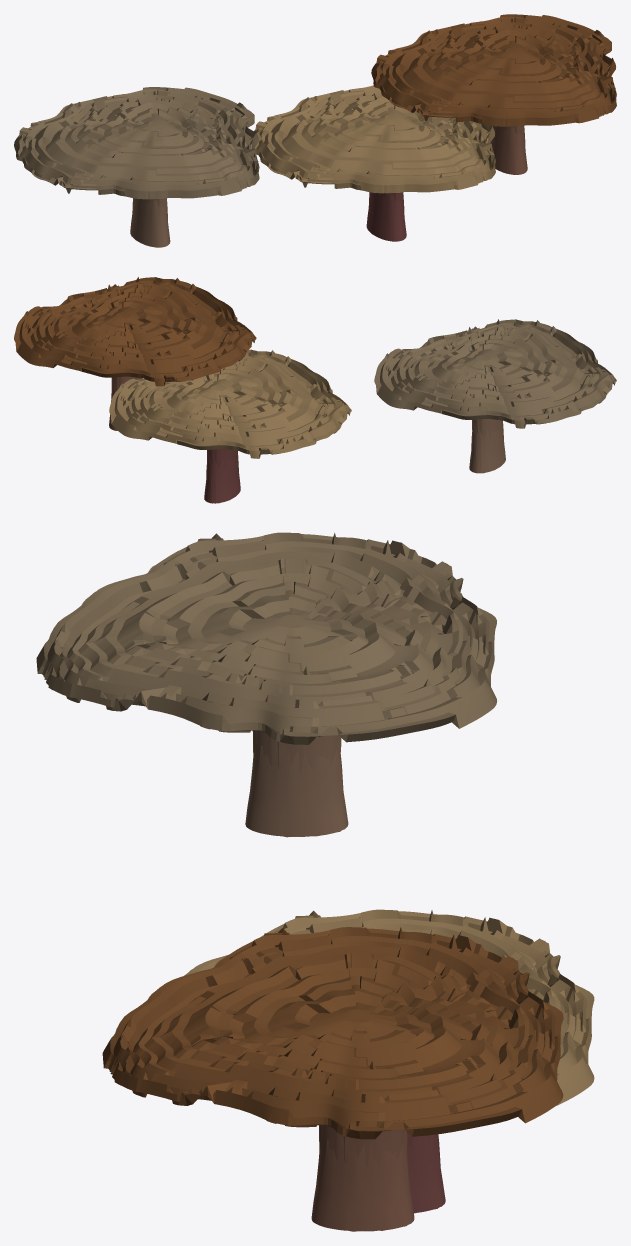
The model's file is estereum versicolor.glb.
3 views of the same model, one above another, from view 1: azimuth 30°, elevation 25°; view 2: azimuth 150°, elevation 25°; view 3: azimuth 270°, elevation 25° (orthographic). The views are drawn at different scales.
Parts seen in each view (by area): view 1: Plane.003, Plane.002, Plane.001, Cylinder, Cylinder.002, Cylinder.001; view 2: Plane.002, Plane.003, Plane.001, Cylinder, Cylinder.002; view 3: Plane.002, Plane.003, Plane.001, Cylinder.001, Cylinder.002, Cylinder.
Part boxes in pixels (x1,y1,x2,y2): Plane.003: [14, 87, 259, 199]; Plane.002: [371, 14, 616, 126]; Plane.001: [254, 85, 495, 193]; Cylinder: [366, 192, 406, 241]; Cylinder.002: [130, 198, 170, 247]; Cylinder.001: [490, 125, 527, 174]; Plane.002: [14, 277, 256, 386]; Plane.003: [374, 319, 616, 428]; Plane.001: [109, 349, 351, 458]; Cylinder: [204, 449, 240, 503]; Cylinder.002: [469, 419, 505, 473]; Plane.002: [102, 927, 563, 1139]; Plane.003: [36, 532, 496, 744]; Plane.001: [184, 909, 594, 1105]; Cylinder.001: [311, 1125, 414, 1231]; Cylinder.002: [245, 730, 348, 837]; Cylinder: [407, 1132, 445, 1213].
Size of what is drawn, in the model's own units: 7.53 by 2.31 by 3.31.
